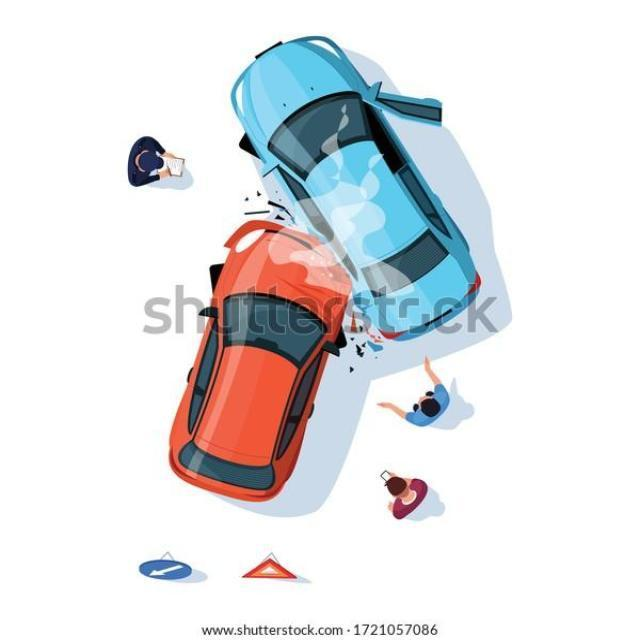accident: (140, 12, 435, 497)
